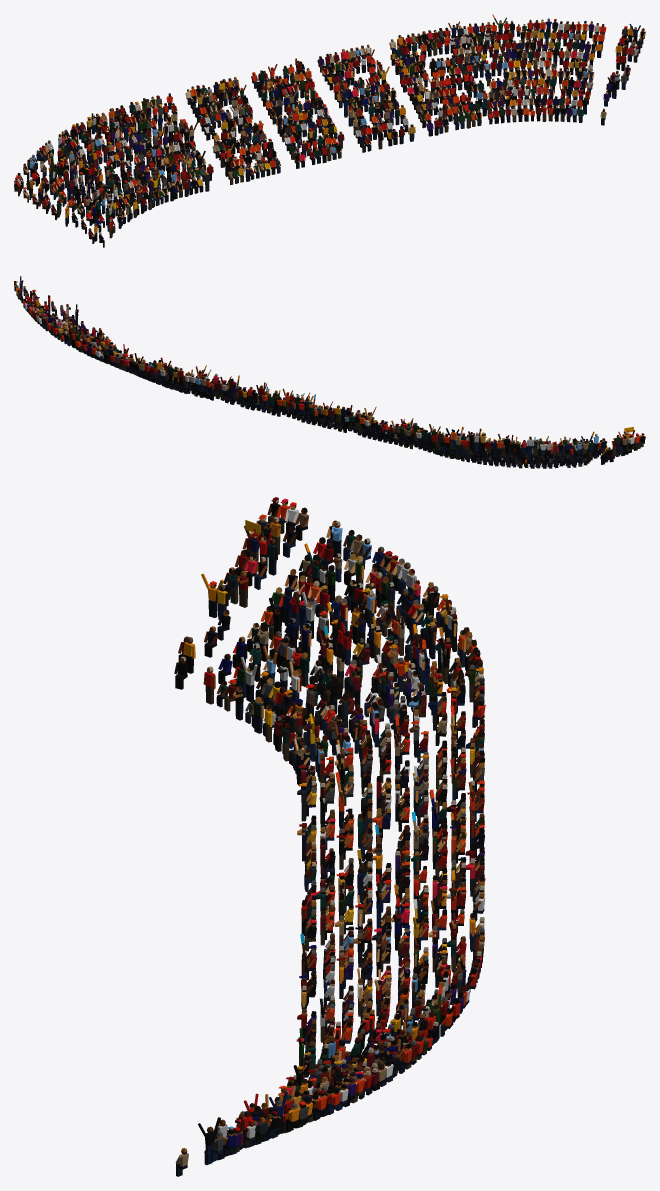
File: SM_Crowd_UpperFar.fbx
3 views of the same model, one above another, from view 1: azimuth 30°, elevation 25°; view 2: azimuth 150°, elevation 25°; view 3: azimuth 270°, elevation 25° (orthographic). The views are drawn at different scales.
Parts seen in each view (by area): view 1: SM_Crowd_UpperFar; view 2: SM_Crowd_UpperFar; view 3: SM_Crowd_UpperFar.
Part boxes in pixels (<box>): SM_Crowd_UpperFar: <box>14,14,645,247</box>; SM_Crowd_UpperFar: <box>14,276,645,468</box>; SM_Crowd_UpperFar: <box>174,497,485,1176</box>.
Bounding box in the file's own units: 6626 × 736 × 1415.
